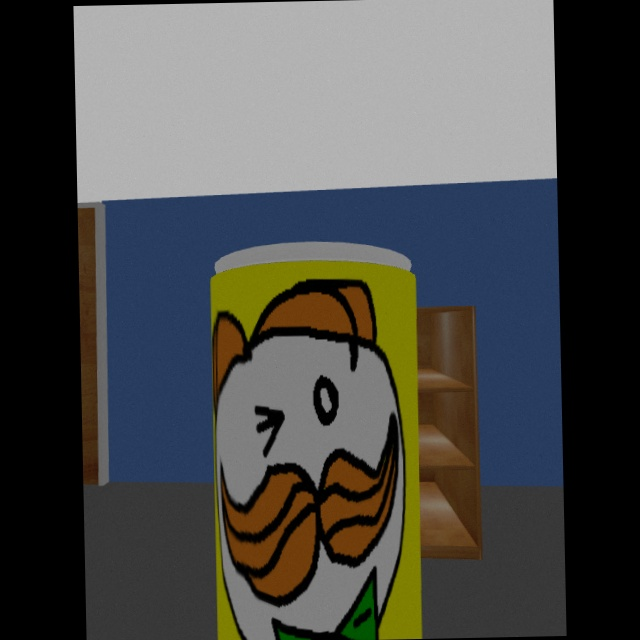chipsdose_gelb: (210, 241, 423, 640)
